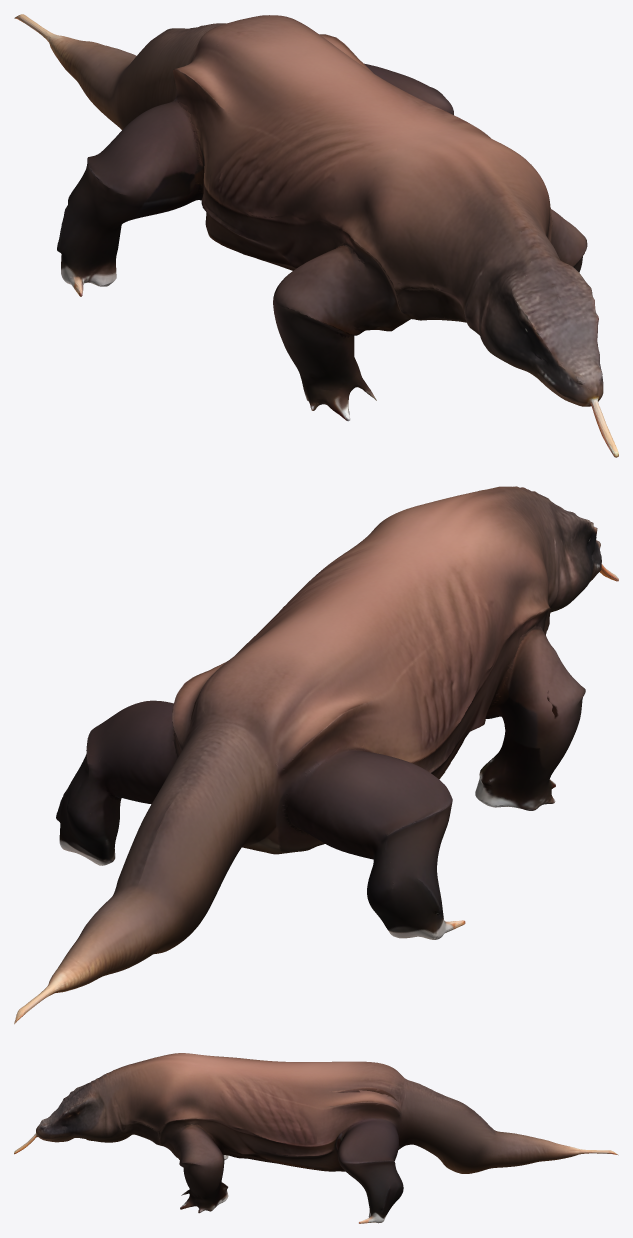
Rendered from Komodo.fbx.
3 renders of one model, top to bottom at view 1: azimuth 30°, elevation 25°; view 2: azimuth 150°, elevation 25°; view 3: azimuth 270°, elevation 25°, orthographic. The views are drawn at different scales.
Parts seen in each view (by area): view 1: model; view 2: model; view 3: model.
Boxes of the visible parts, x1=… form: model: x1=14, y1=14, x2=618, y2=457; model: x1=14, y1=486, x2=618, y2=1024; model: x1=14, y1=1053, x2=618, y2=1223.
Size of the model in its own units: 70.14 by 43.4 by 190.
